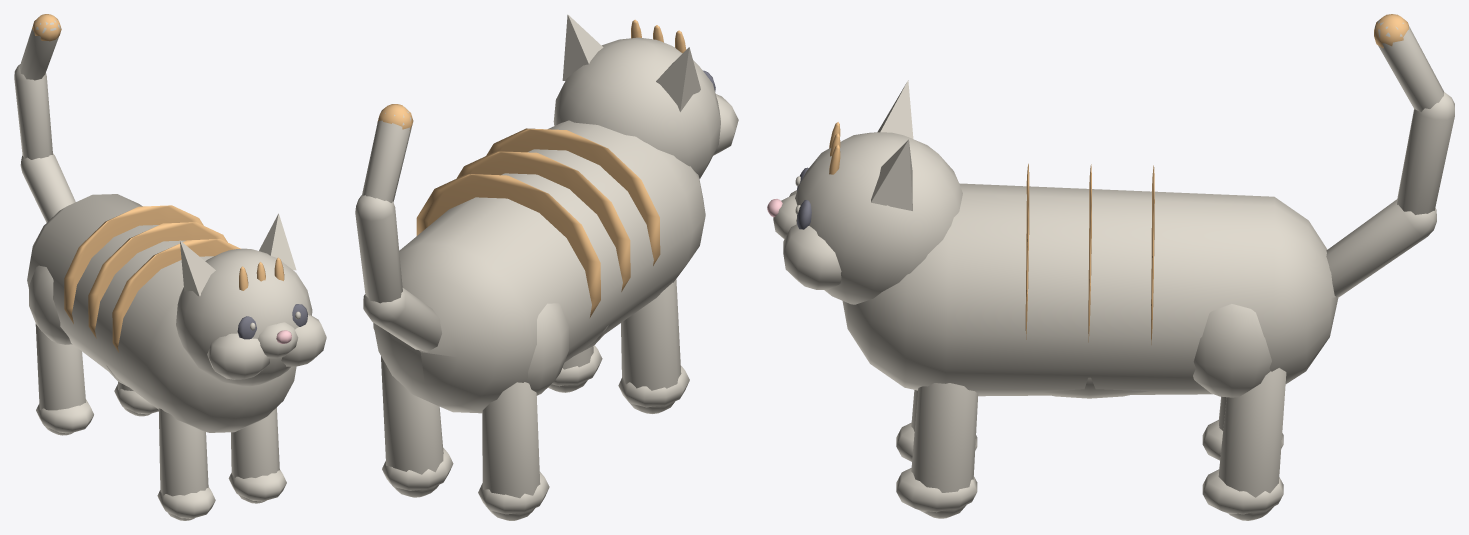
The model's file is cat-calico.glb.
3 renders of one model, left to right at view 1: azimuth 30°, elevation 25°; view 2: azimuth 150°, elevation 25°; view 3: azimuth 270°, elevation 25°, orthographic. The views are drawn at different scales.
Visible parts, largest first — view 1: cat-standing-calico; view 2: cat-standing-calico; view 3: cat-standing-calico.
Boxes of the visible parts, left/top/right/bottom form: cat-standing-calico: left=14, top=14, right=326, bottom=520; cat-standing-calico: left=355, top=14, right=738, bottom=520; cat-standing-calico: left=767, top=14, right=1454, bottom=520.
Bounding box in the file's own units: 0.2211 × 0.5178 × 0.6759.
